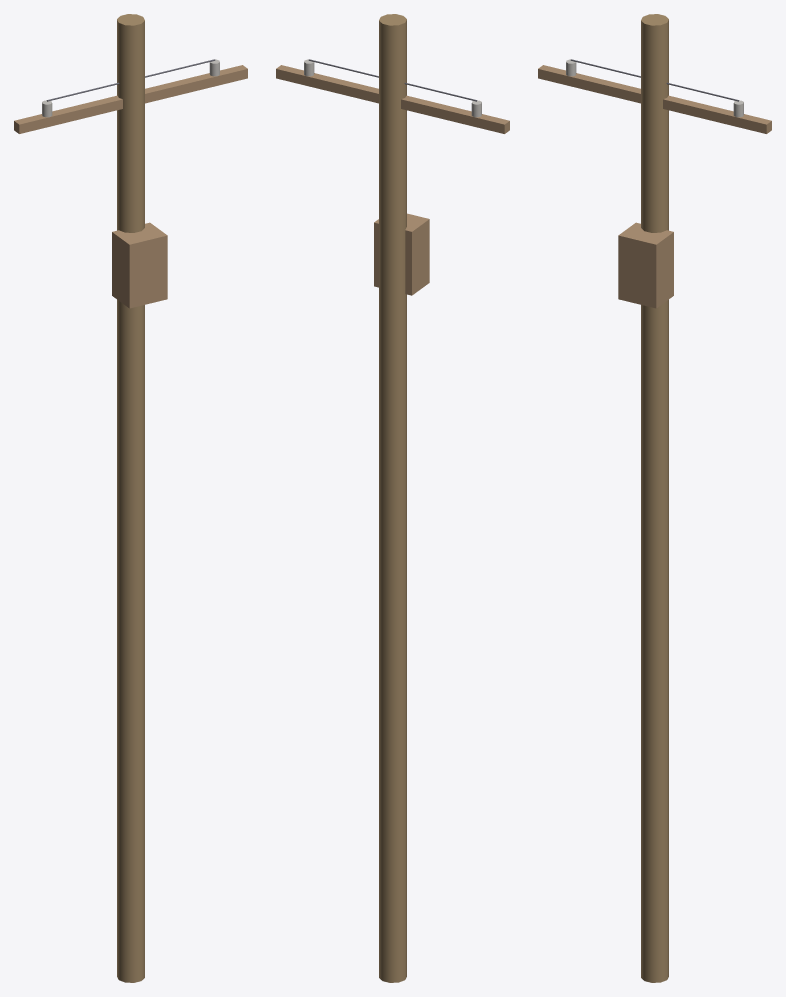
Rendered from utility_pole.glb.
The picture shows the model from 3 angles, left to right: view 1: azimuth 30°, elevation 25°; view 2: azimuth 150°, elevation 25°; view 3: azimuth 330°, elevation 25°; orthographic projection.
Parts seen in each view (by area): view 1: pole, transformer, crossbar; view 2: pole, crossbar, transformer; view 3: pole, transformer, crossbar.
Boxes of the visible parts, <box> form: pole: <box>117,14,144,982</box>; transformer: <box>112,222,167,308</box>; crossbar: <box>14,65,247,133</box>; pole: <box>379,14,406,982</box>; crossbar: <box>276,65,509,133</box>; transformer: <box>374,213,429,295</box>; pole: <box>641,14,668,982</box>; transformer: <box>618,222,673,308</box>; crossbar: <box>538,65,771,133</box>.
Bounding box in the file's own units: 1.5 × 6 × 0.2761.
